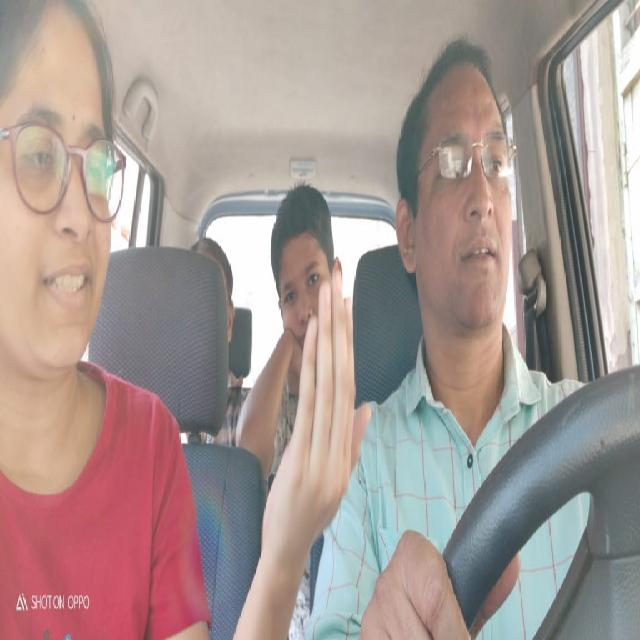person: (2, 15, 113, 369), (397, 59, 518, 330), (267, 206, 336, 304)
